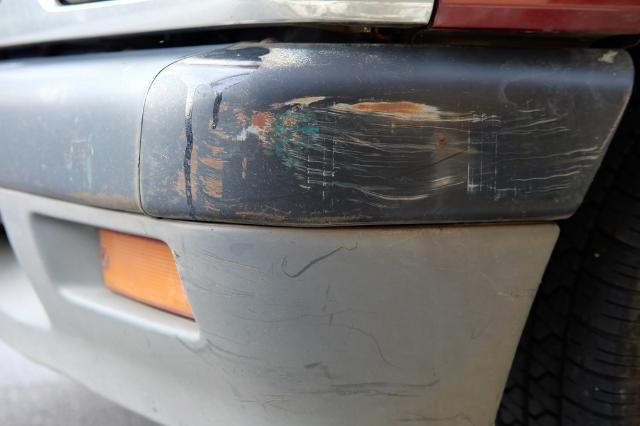scratch: (189, 237, 485, 426), (243, 88, 598, 207)
